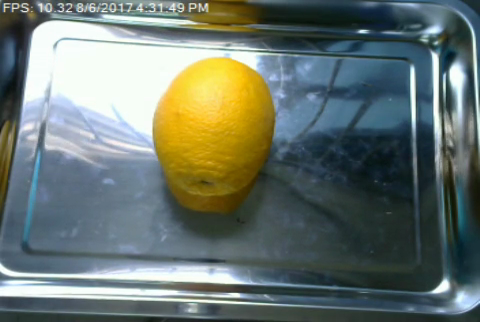Orange: (154, 58, 276, 197)
